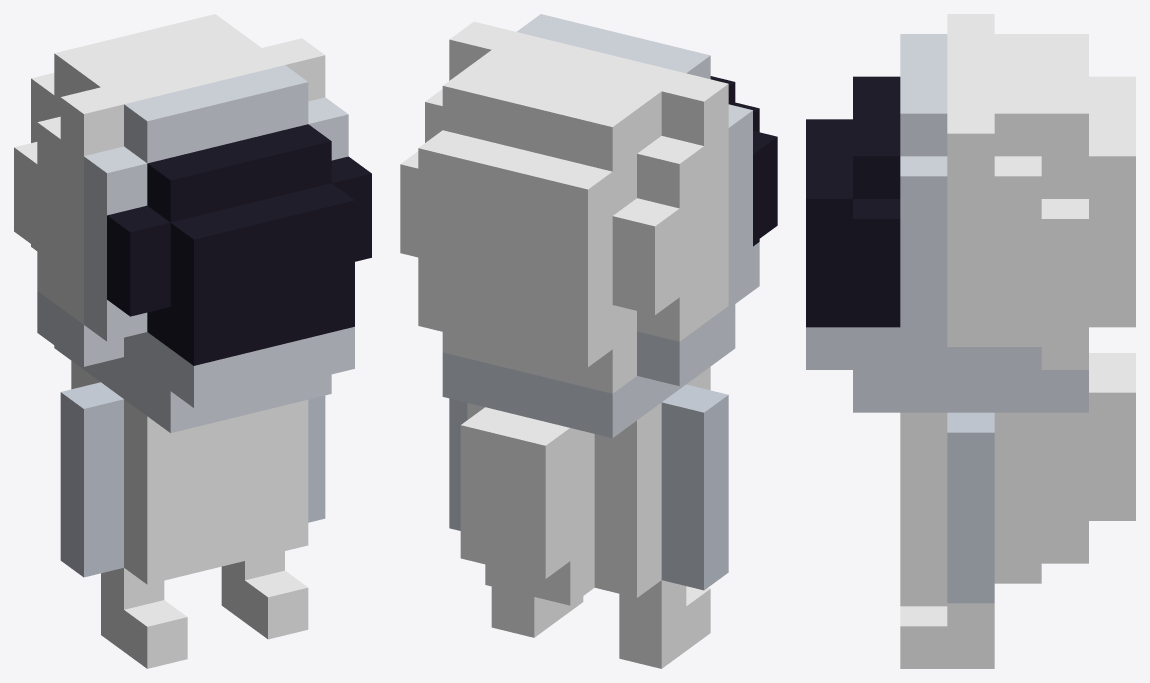
The model's file is astronaut.glb.
The picture shows the model from 3 angles, left to right: view 1: azimuth 30°, elevation 25°; view 2: azimuth 150°, elevation 25°; view 3: azimuth 270°, elevation 25°; orthographic projection. The views are drawn at different scales.
Visible parts, largest first — view 1: ObjObject.001; view 2: ObjObject.001; view 3: ObjObject.001.
Boxes of the visible parts, <box> form: ObjObject.001: <box>14,14,371,668</box>; ObjObject.001: <box>400,14,777,668</box>; ObjObject.001: <box>806,14,1135,668</box>.
Bounding box in the file's own units: 0.6 × 1.3 × 0.7.
1 material, 1 textured.
